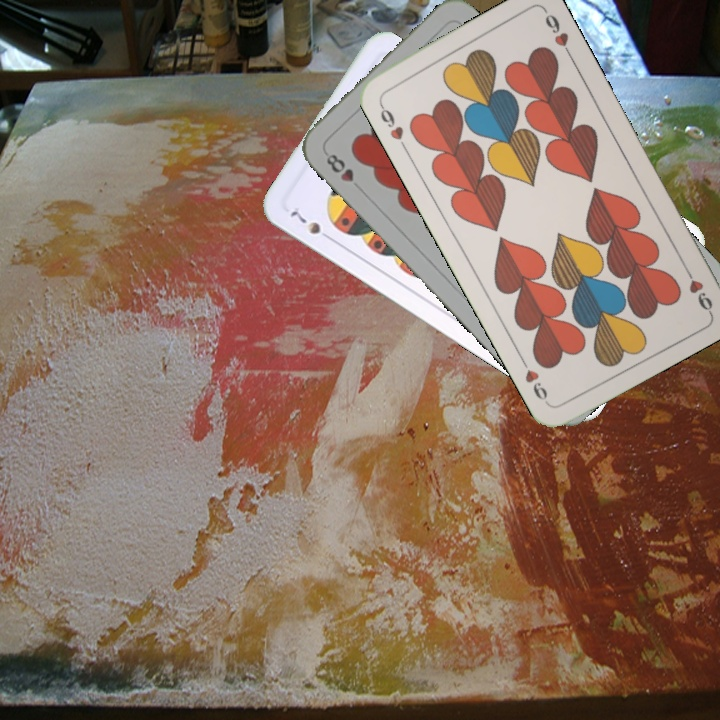H8: (322, 150, 357, 185)
H9: (679, 261, 715, 315), (375, 98, 410, 152)
S7: (286, 206, 336, 244)
